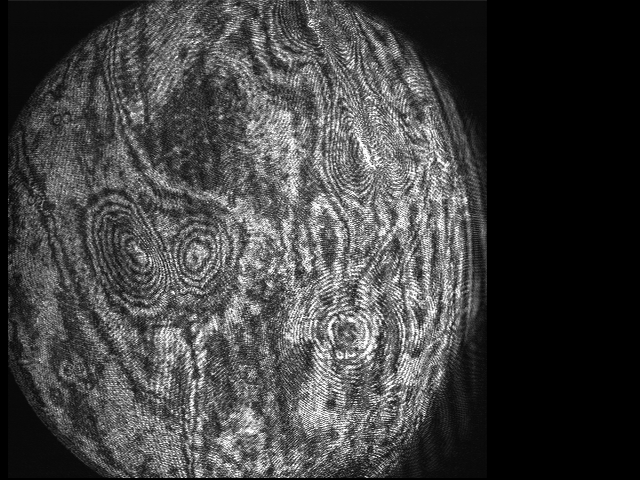plume: (83, 190, 224, 319)
